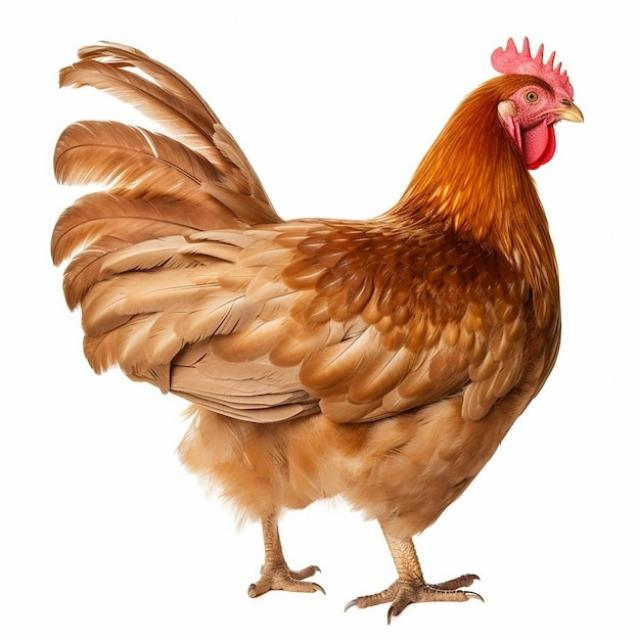Chicken: (49, 36, 585, 622)
